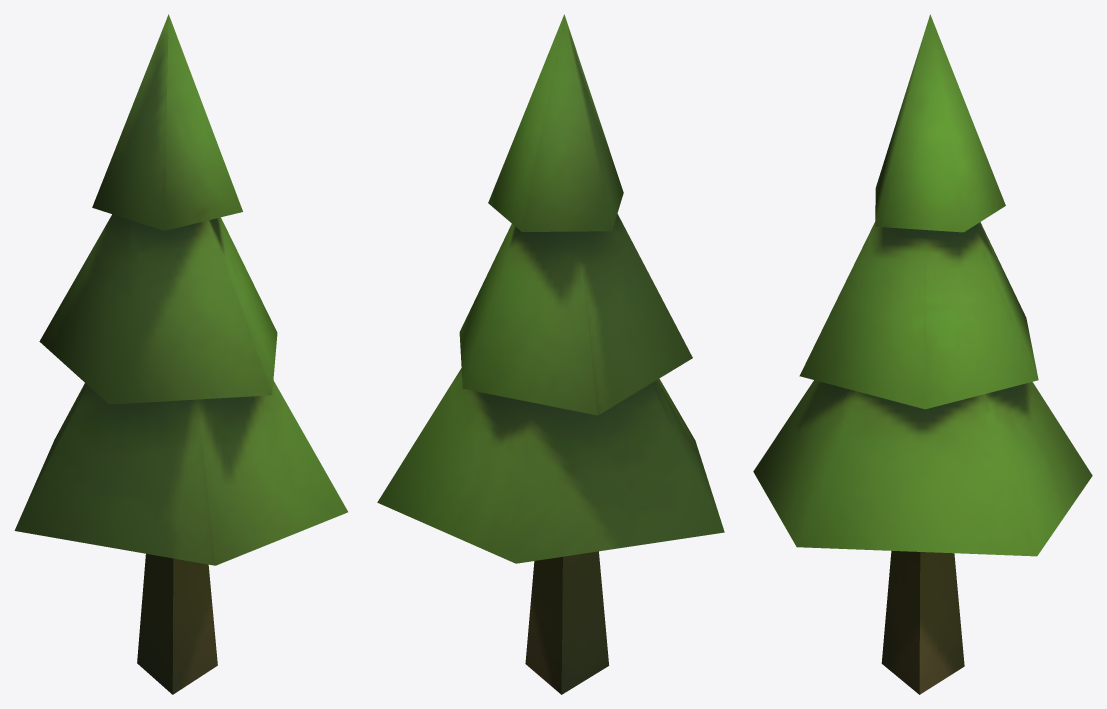
Rendered from Sce_worldmap_tree_b03.FBX.
3 views of the same model, side by side, from view 1: azimuth 30°, elevation 25°; view 2: azimuth 150°, elevation 25°; view 3: azimuth 270°, elevation 25° (orthographic).
Visible parts, largest first — view 1: polySurface40; view 2: polySurface40; view 3: polySurface40.
Part boxes in pixels (x1,y1,x2,y2): polySurface40: (14,14,347,694); polySurface40: (377,14,724,694); polySurface40: (753,14,1092,694).
Bounding box in the file's own units: 37.47 × 81.71 × 38.12.
